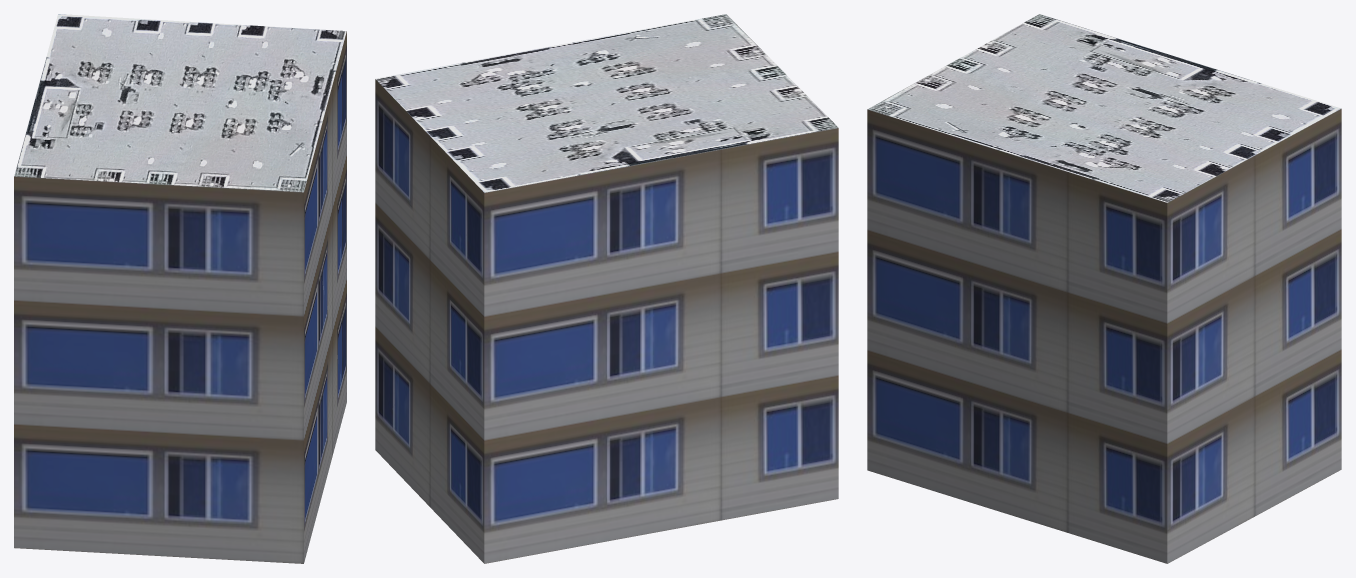
Rendered from ResTex__3660.fbx.
3 renders of one model, left to right at view 1: azimuth 30°, elevation 25°; view 2: azimuth 150°, elevation 25°; view 3: azimuth 270°, elevation 25°, orthographic. The views are drawn at different scales.
Visible parts, largest first — view 1: CityEngineMaterial_23_m, CityEngineMaterial_8_m; view 2: CityEngineMaterial_23_m, CityEngineMaterial_8_m; view 3: CityEngineMaterial_23_m, CityEngineMaterial_8_m.
Part boxes in pixels (x1,y1,x2,y2): CityEngineMaterial_23_m: [14, 31, 346, 563]; CityEngineMaterial_8_m: [14, 14, 346, 192]; CityEngineMaterial_23_m: [375, 79, 838, 563]; CityEngineMaterial_8_m: [375, 14, 838, 192]; CityEngineMaterial_23_m: [867, 108, 1341, 563]; CityEngineMaterial_8_m: [868, 14, 1340, 202].
Size of the model in its own units: 10.1 by 9 by 10.71.
Materials: 2 (2 with a texture image).
